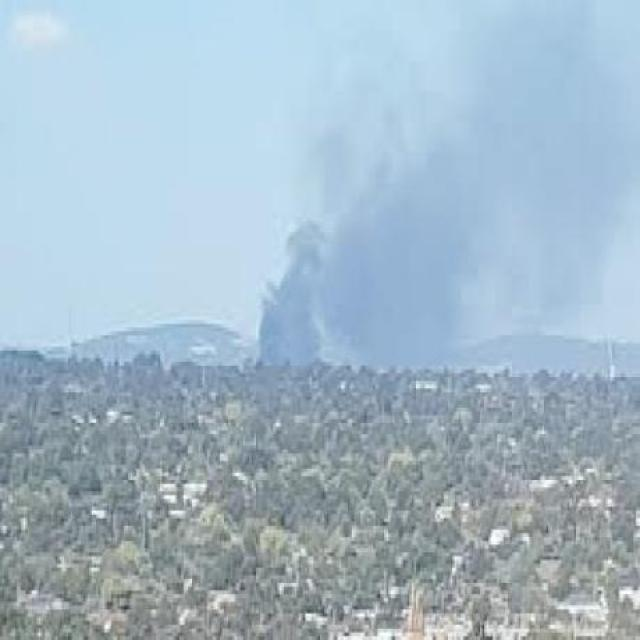Smoke: (256, 6, 624, 377)
